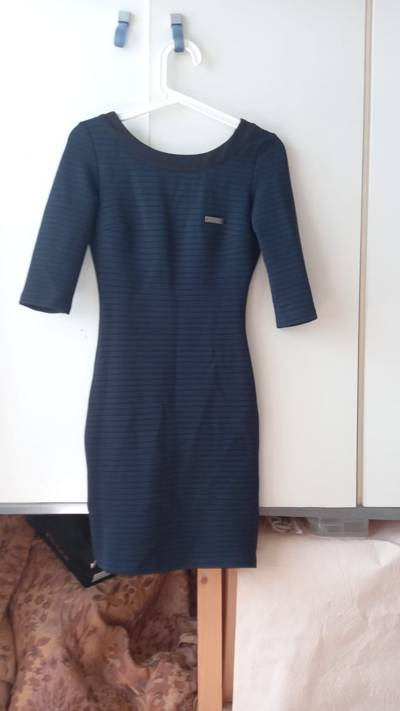Dress: (19, 85, 335, 625)
